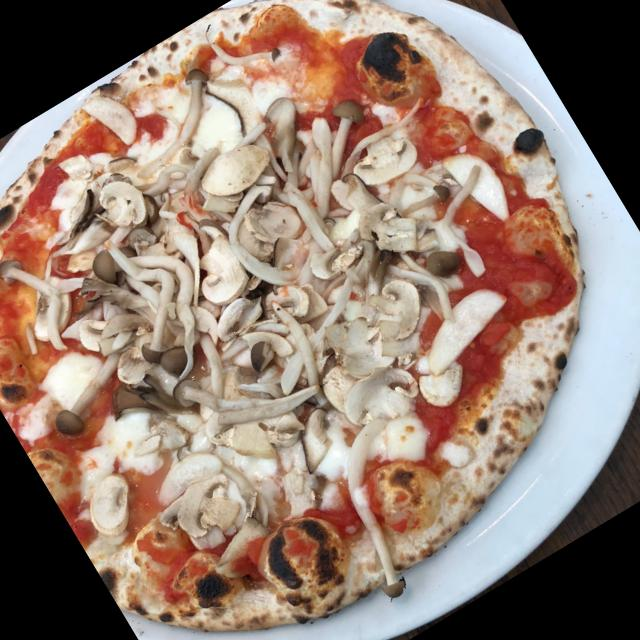mushrooms: (302, 418, 457, 598), (78, 218, 234, 388), (108, 66, 236, 182), (250, 284, 356, 413), (188, 332, 310, 443), (270, 98, 387, 212), (32, 337, 150, 446), (395, 169, 506, 279), (314, 301, 404, 394), (331, 349, 429, 434), (332, 107, 424, 196), (157, 464, 248, 553), (0, 242, 78, 345), (349, 182, 432, 270), (192, 126, 274, 205), (74, 462, 152, 543), (354, 268, 431, 346), (186, 232, 258, 306), (294, 226, 368, 298), (242, 186, 312, 254), (235, 314, 302, 384), (90, 166, 156, 236), (405, 351, 469, 418), (212, 282, 278, 342)
pizza: (0, 0, 590, 636)
